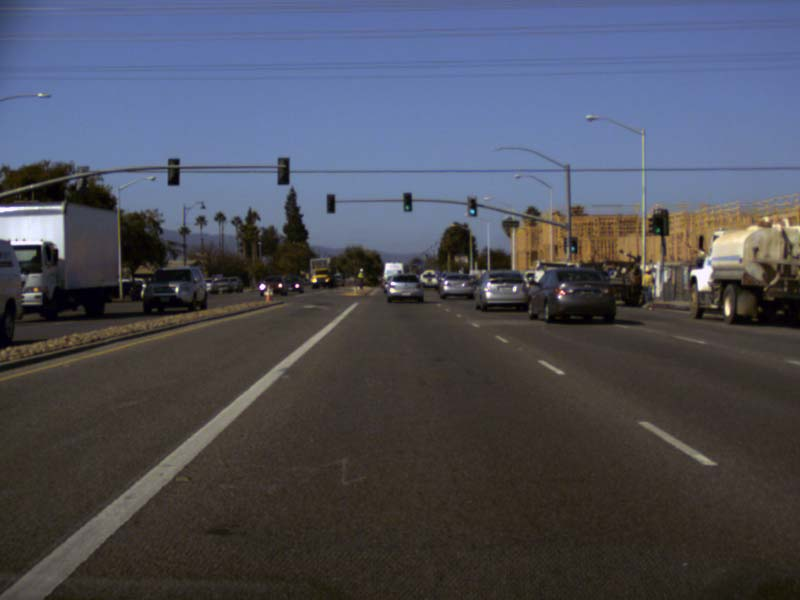Green: (653, 215, 661, 234), (404, 193, 411, 211), (468, 197, 475, 215), (570, 237, 575, 251)
Red: (327, 195, 334, 212)
